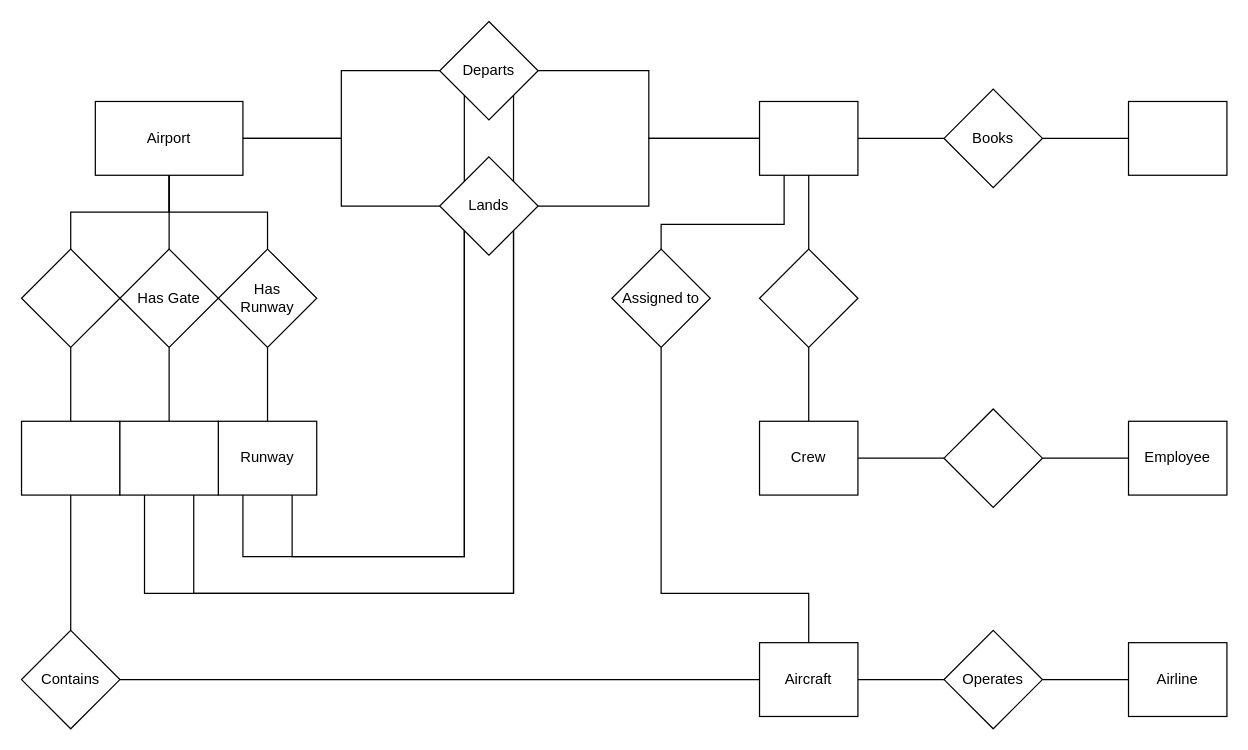
Some shapes in this 1248 by 750 pixel diagram are drawn without their labels. Here are the shapes that lost their labels. From the top down, the centre of each, then its label:
At point 808,137: "Flight".
At point 1177,137: "Passenger".
At point 70,297: "Has Hangar".
At point 808,297: "Works".
At point 70,457: "Hangar".
At point 168,457: "Gate".
At point 992,457: "Part of".
